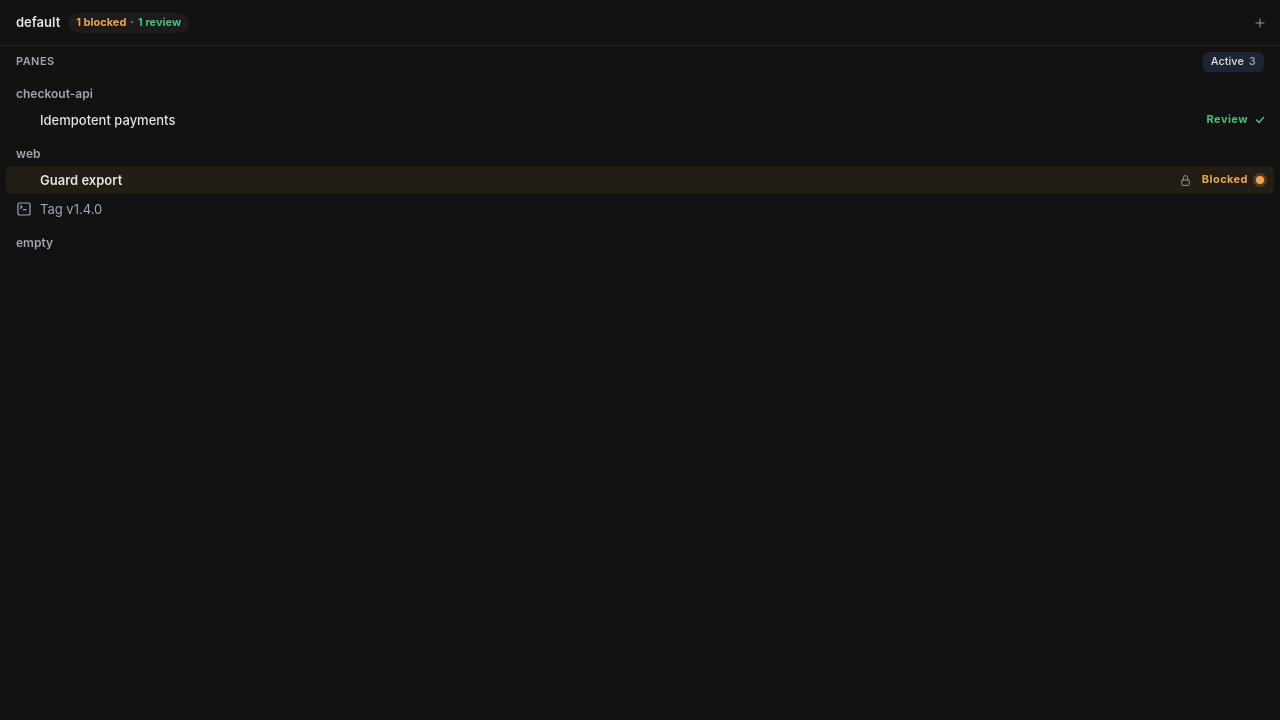
Test: AgentList › protect › names the protected panes when closing their workspace
Step 1. Right-click the button "web" → (28, 154), box [16,146,40,162]
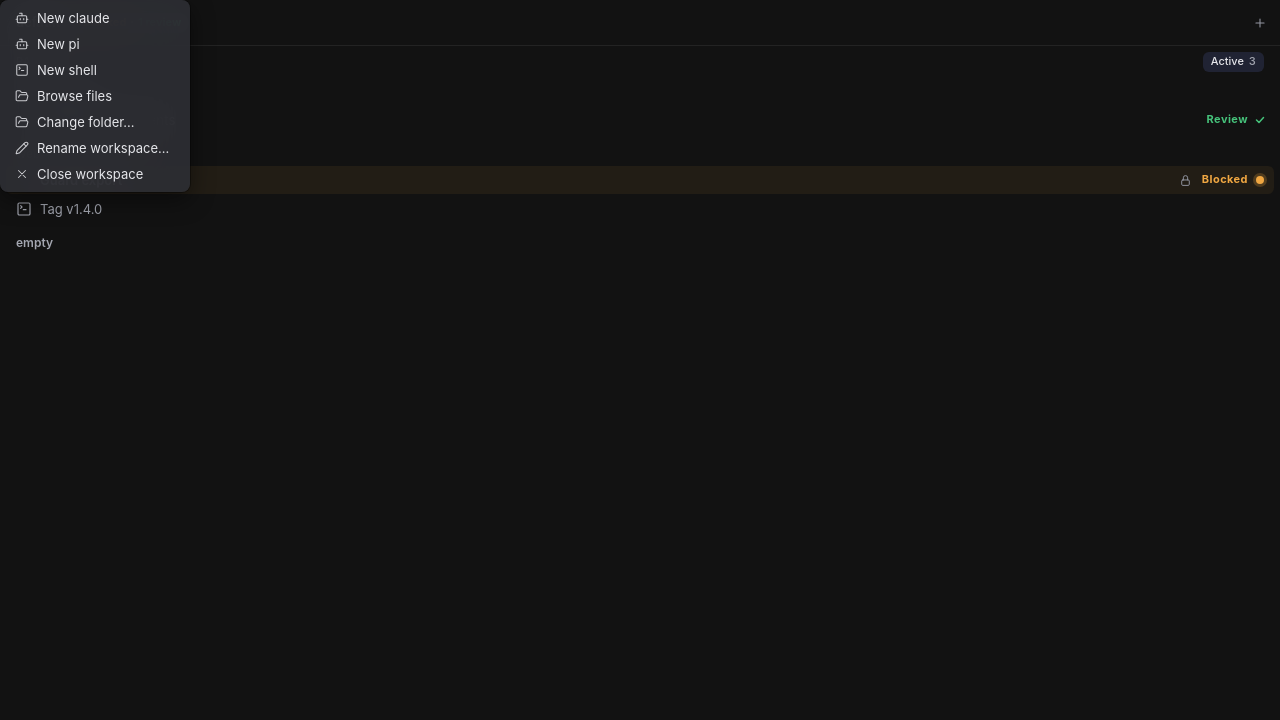
Step 2. Click the menu item "Close workspace" → (95, 174), box [5,161,185,187]
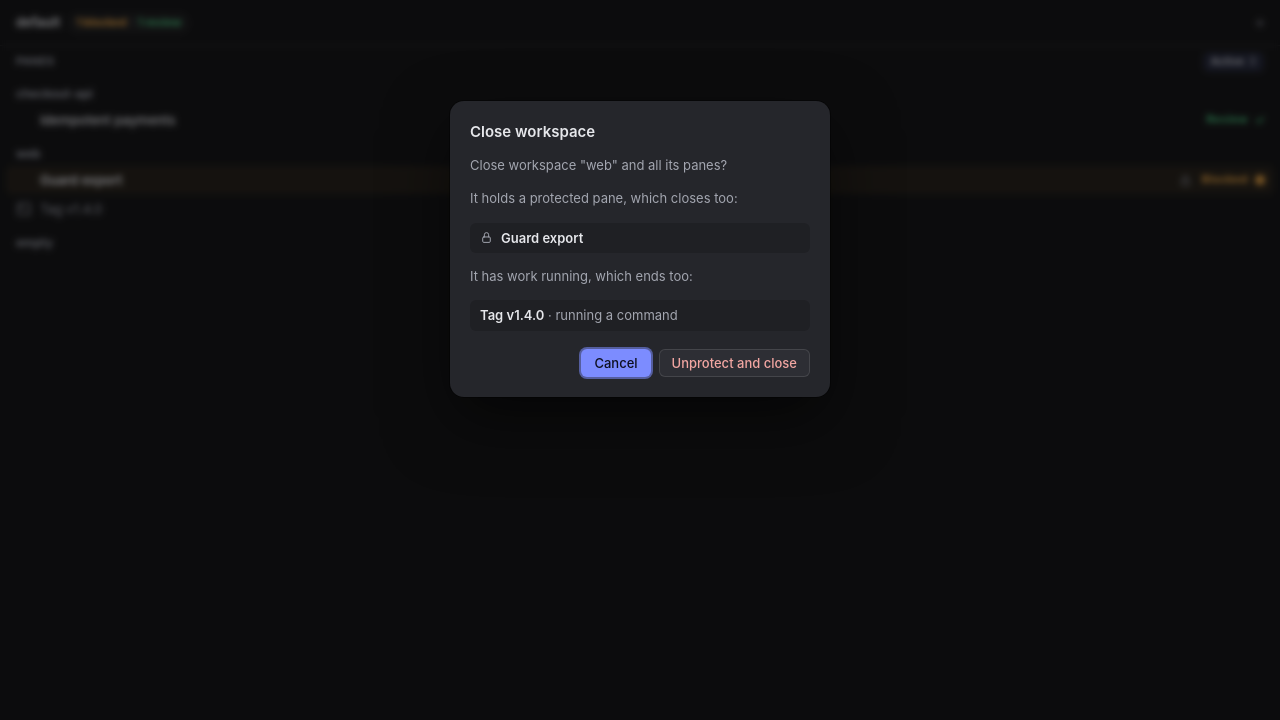
Now the list item "Guard export" is shown, box [470,223,810,253]
Now the button "Unprotect and close" is shown, box [659,349,810,377]
